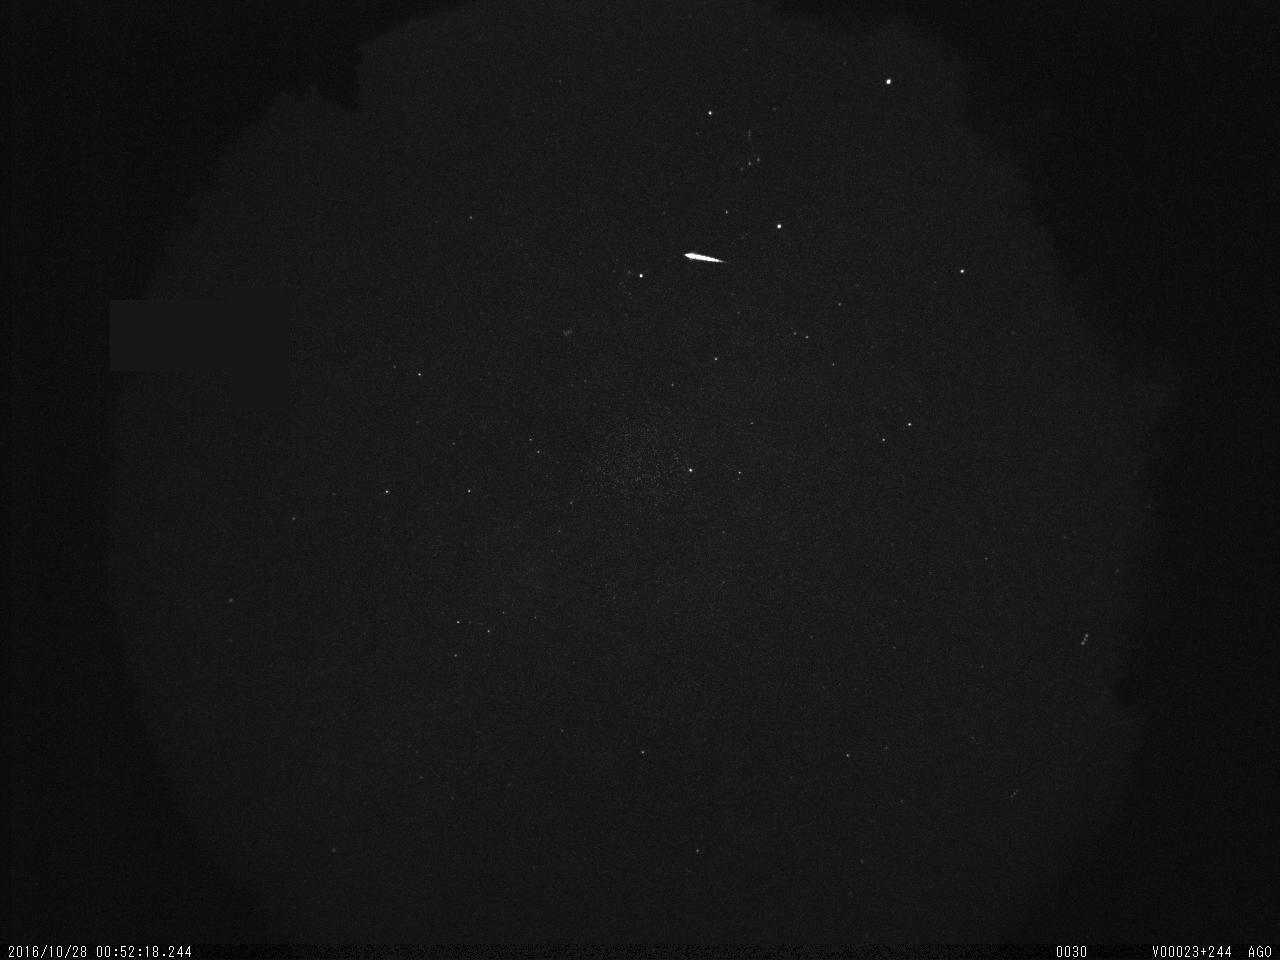Meteor: (682, 249, 726, 265)
